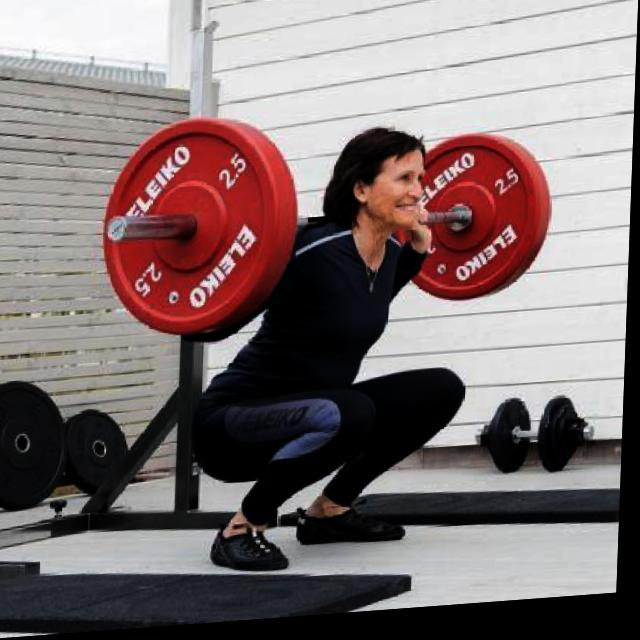barbell: (103, 117, 284, 347)
